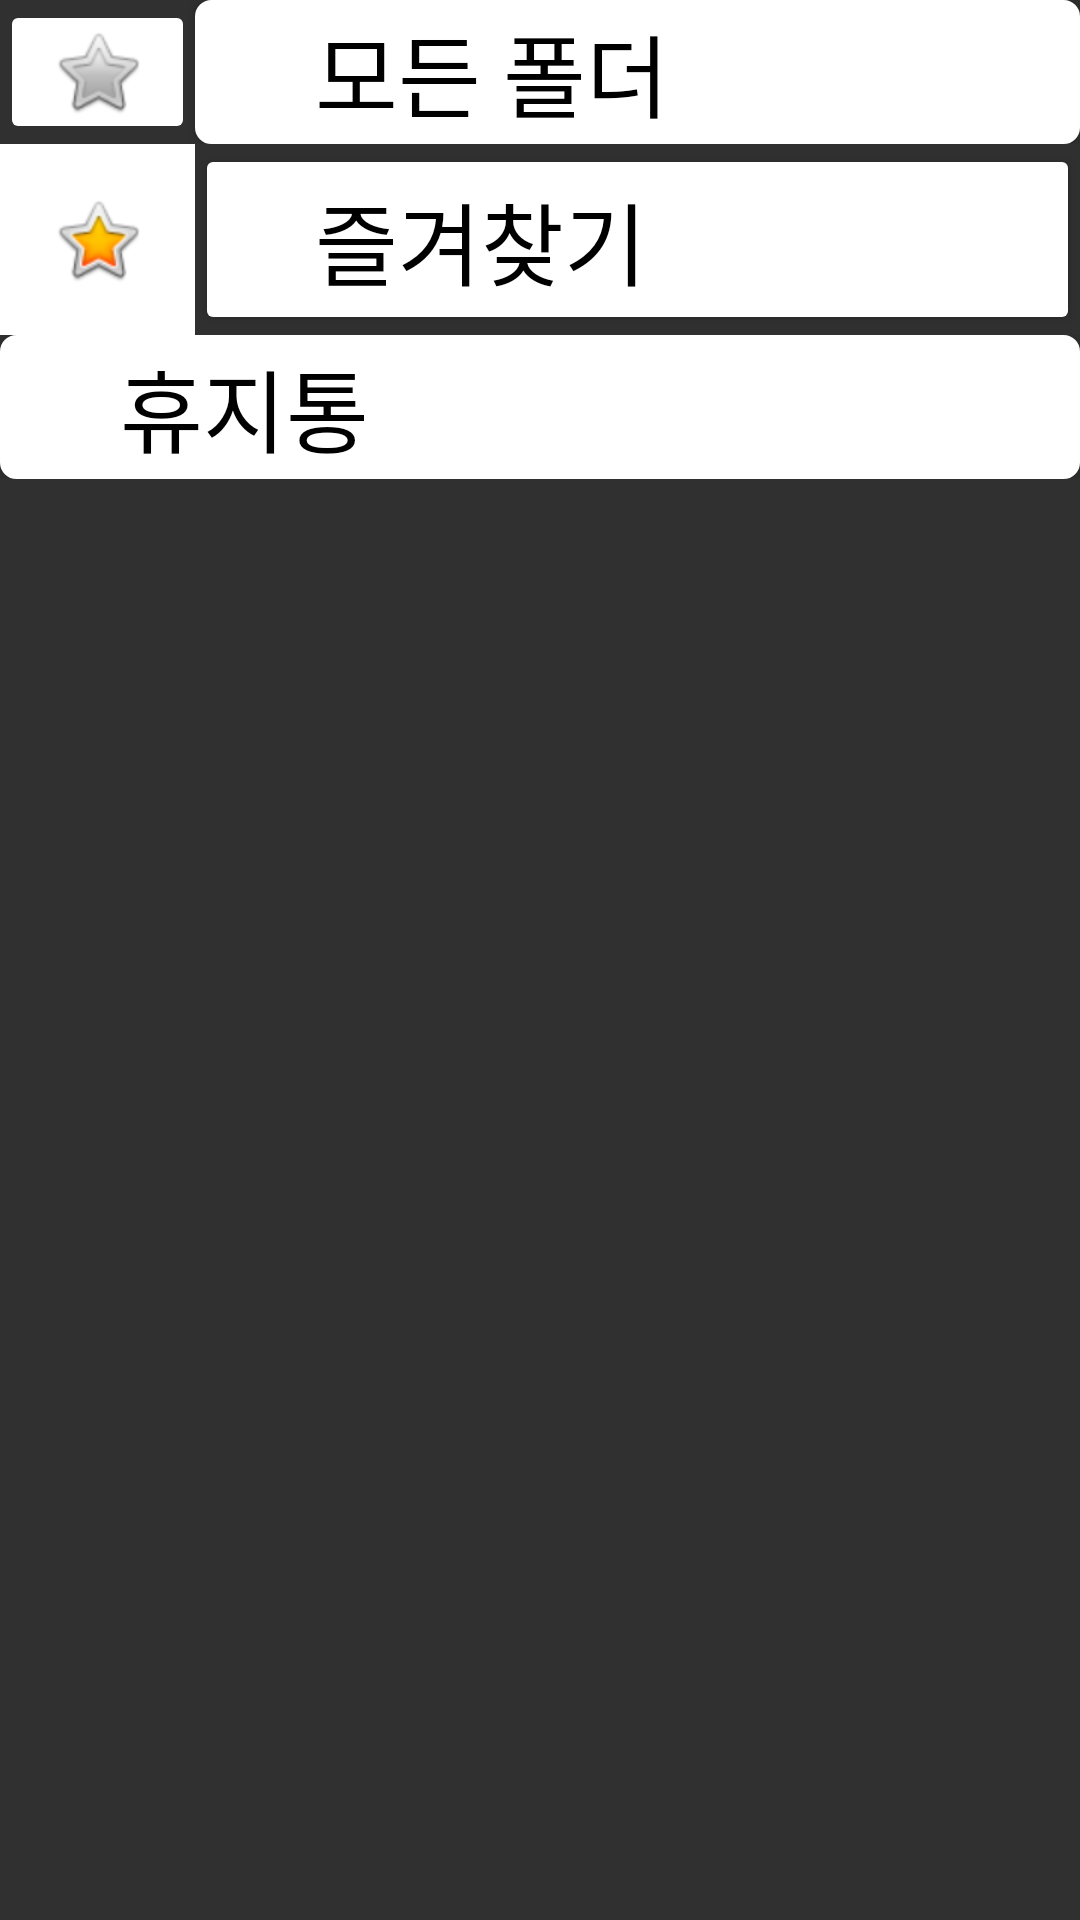

Locate icon controls on the screen. Image size 1080*1920, boxes as detection(x1, y1, x2, y2).
star off: detection(0, 0, 195, 144)
star on: detection(59, 202, 139, 280)
